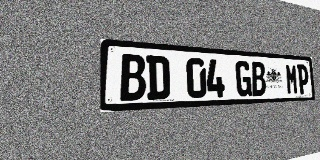0: (186, 58, 207, 98)
4: (206, 59, 225, 98)
B: (120, 54, 146, 101), (251, 61, 266, 96)
D: (146, 55, 170, 100)
G: (235, 61, 252, 97)
M: (285, 64, 298, 95)
P: (297, 64, 309, 94)
